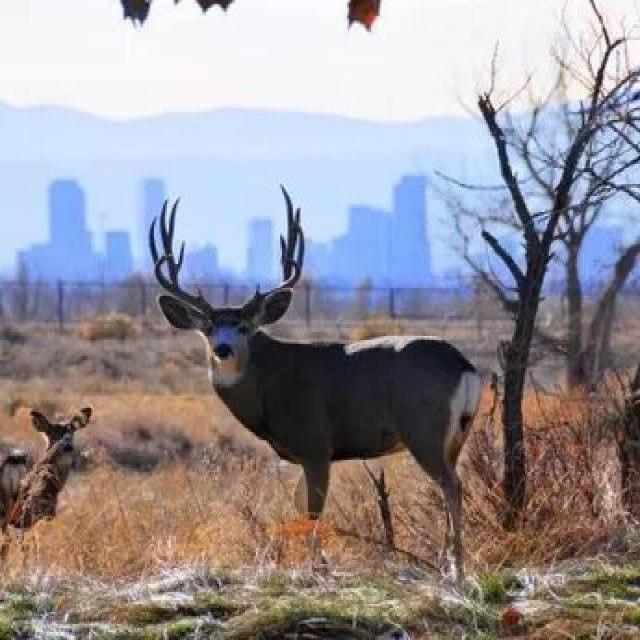deer: (102, 220, 526, 595)
